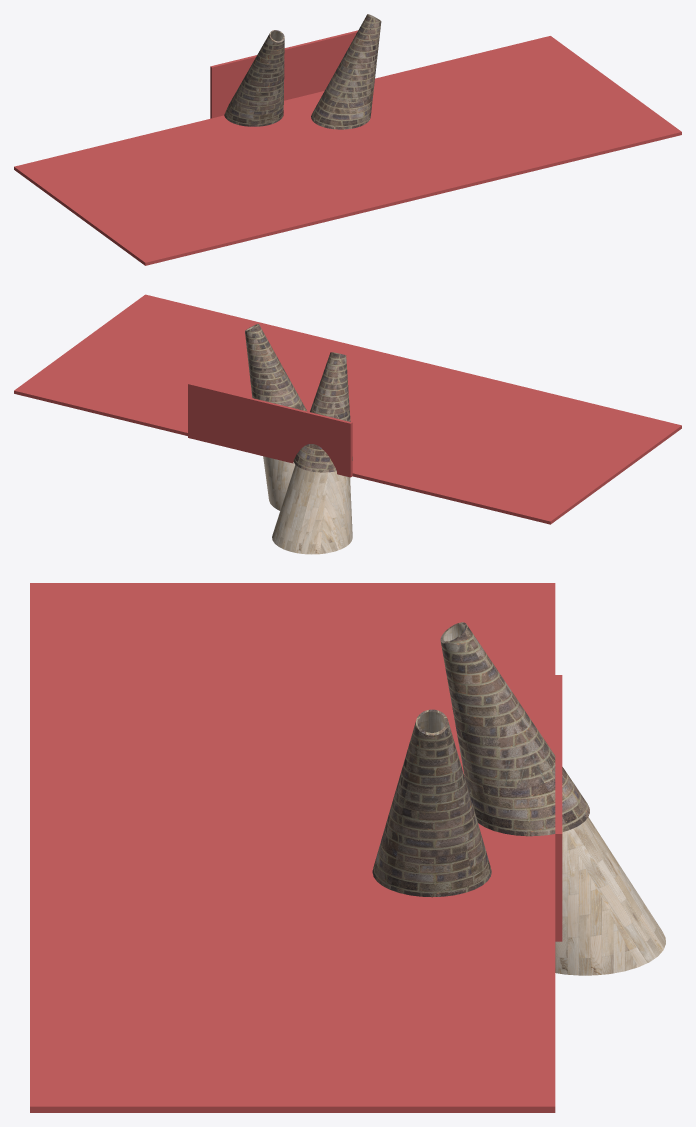
The model's file is In Class Export 2026 2.fbx.
3 renders of one model, top to bottom at view 1: azimuth 30°, elevation 25°; view 2: azimuth 150°, elevation 25°; view 3: azimuth 270°, elevation 25°, orthographic. The views are drawn at different scales.
Visible parts, largest first — view 1: Existing Surfaces, Cones Exterior; view 2: Existing Surfaces, Cone Interior, Cones Exterior; view 3: Existing Surfaces, Cones Exterior, Cone Interior.
Boxes of the visible parts, x1,y1,x2,y2 form: Existing Surfaces: (14, 30, 681, 265); Cones Exterior: (224, 14, 381, 129); Existing Surfaces: (14, 294, 681, 524); Cone Interior: (246, 324, 352, 554); Cones Exterior: (245, 324, 352, 472); Existing Surfaces: (30, 583, 562, 1112); Cones Exterior: (372, 622, 589, 897); Cone Interior: (418, 624, 665, 975).
Size of the model in its own units: 8028 by 4121 by 2327.
Materials: 4 (3 with a texture image).
